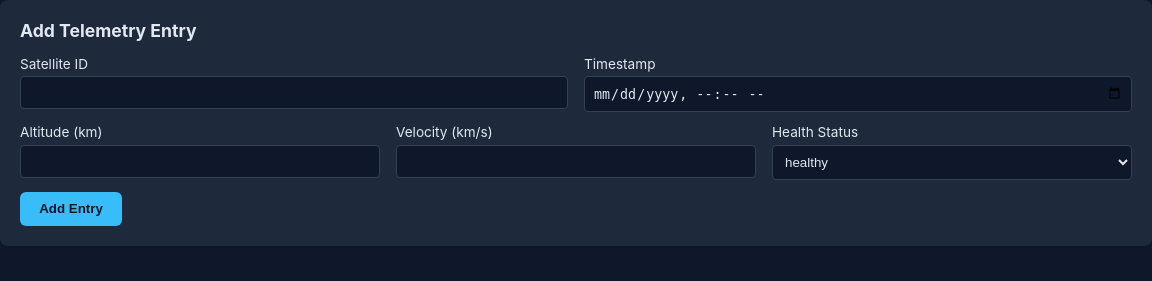
TelemetryForm › rejects a negative altitude
Type "SAT-9" into the field labelled "Satellite ID". click: [294, 93]
box: x1=20 y1=76 x2=568 y2=109
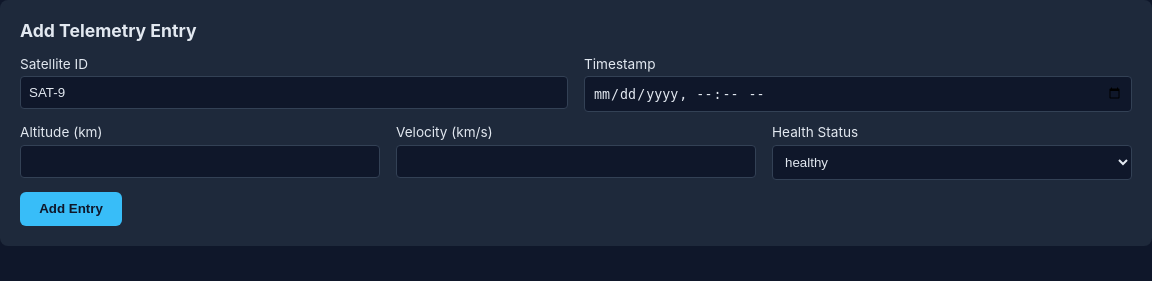
Type "2026-08-25T10:00" into the field labelled "Timestamp". click: [858, 94]
box: x1=584 y1=76 x2=1132 y2=112
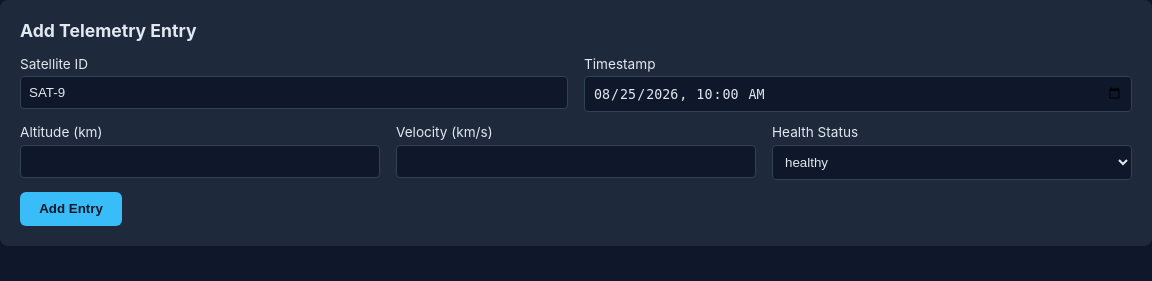
Type "-5" into the number field labelled "Altitude (km)". click: [200, 161]
box: x1=20 y1=144 x2=380 y2=178
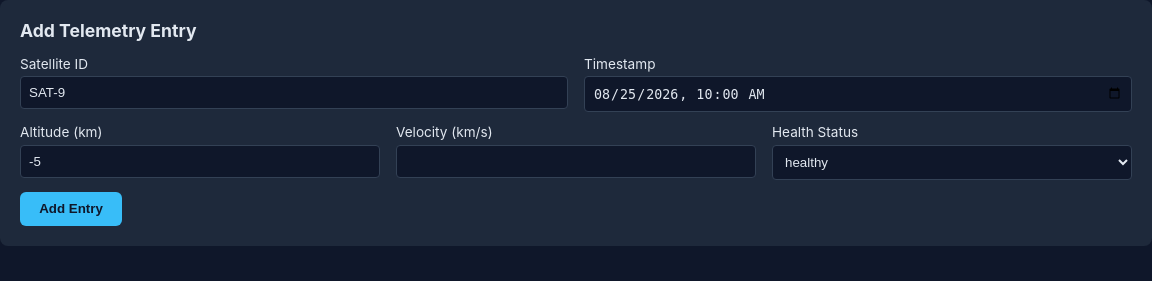
Type "7.5" into the number field labelled "Velocity (km/s)". click: [576, 161]
box: x1=396 y1=144 x2=756 y2=178
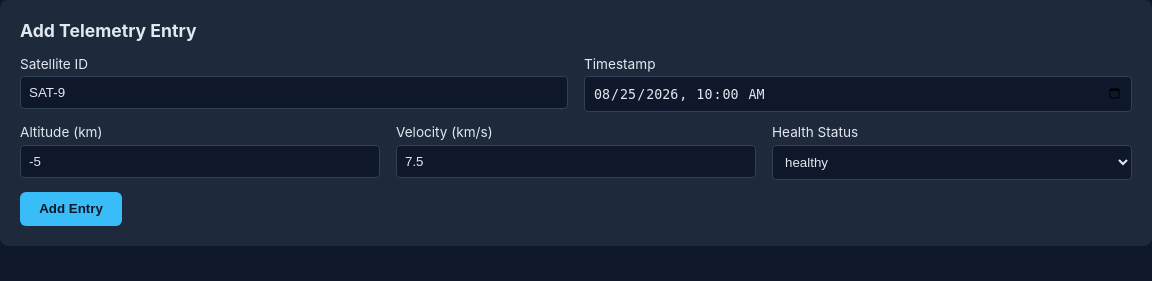
Click the button "Add Entry". click: [71, 209]
box: x1=20 y1=192 x2=122 y2=226
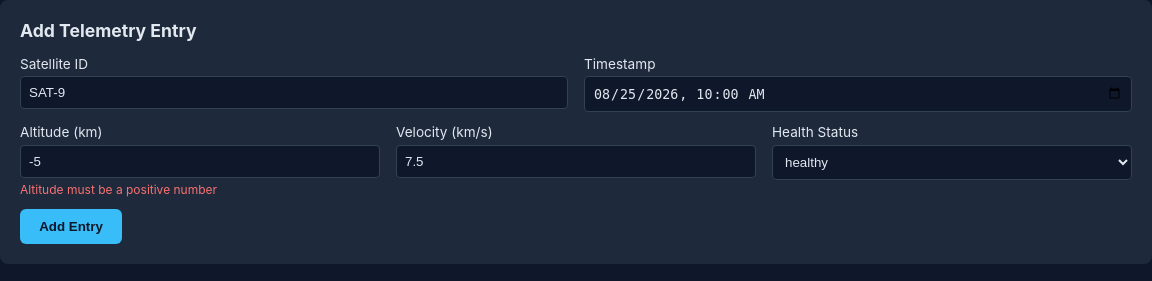
Expected: the text "Altitude must be a positive number" is shown, x1=20 y1=182 x2=217 y2=197
